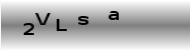2: (22, 22, 35, 36)
L: (54, 18, 68, 32)
V: (33, 11, 52, 25)
a: (107, 10, 120, 21)
s: (76, 15, 90, 25)
